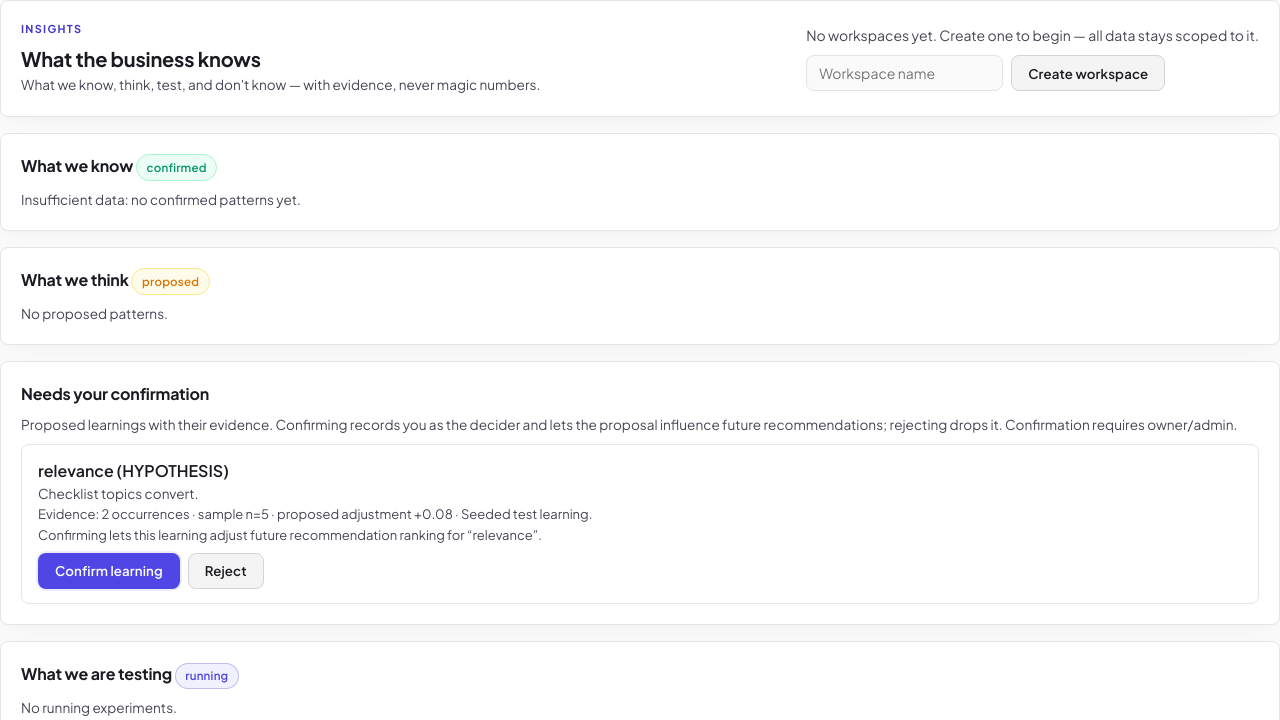
it: LearningPage proposal confirmation › shows what confirmation changes and confirms through the real API
Check: the heading "Needs your confirmation" is shown, box [21, 383, 209, 404]
Check: the text "Checklist topics convert." is shown, box [38, 485, 198, 502]
Click the button "Confirm learning".
click(109, 571)  # box [38, 553, 180, 589]
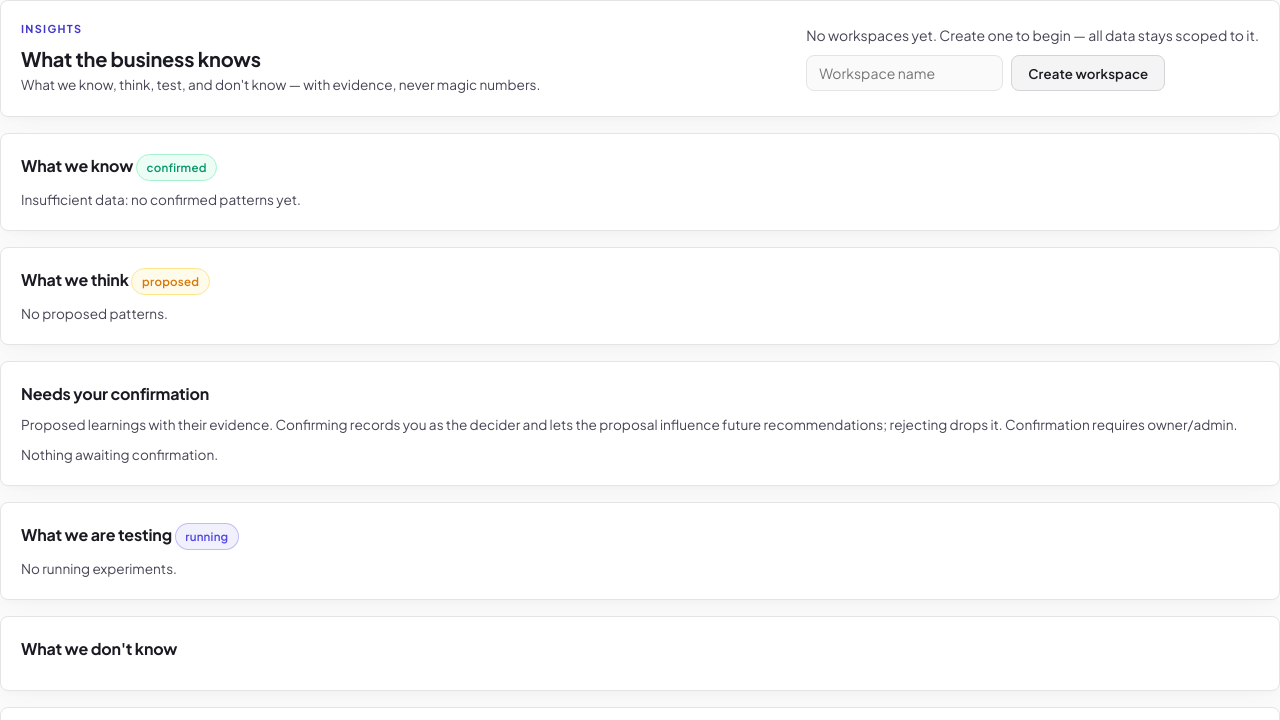
Check: the text "Nothing awaiting confirmation." is shown, box [21, 446, 218, 462]
